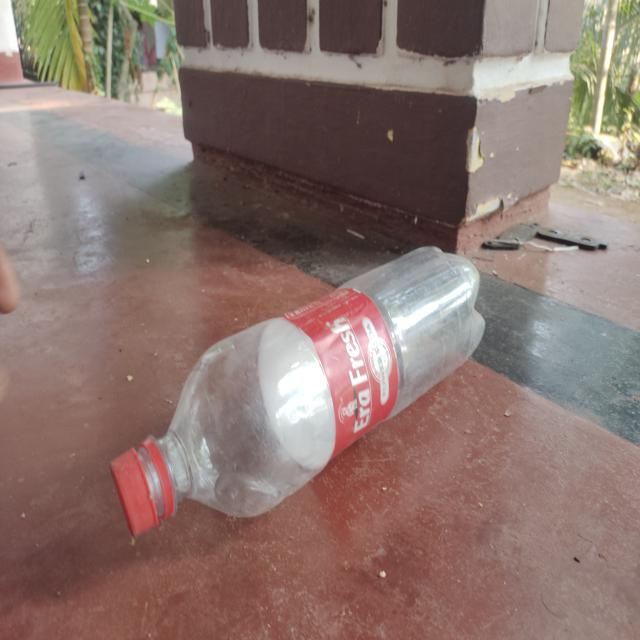plastic: (111, 241, 484, 534)
